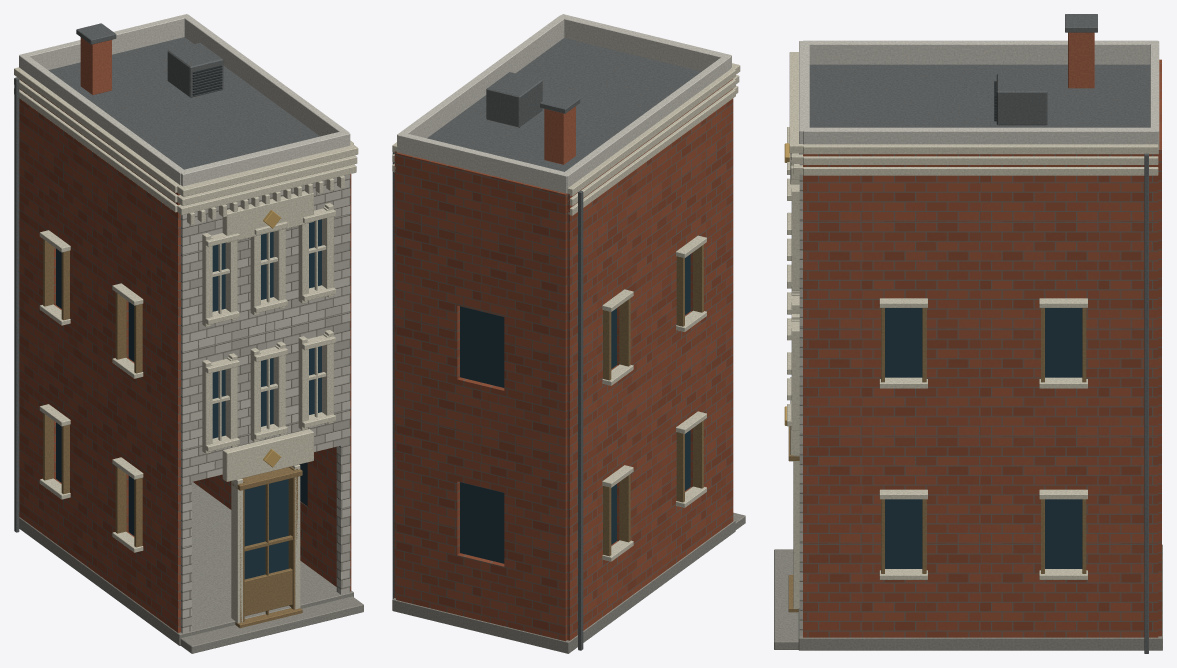
Rendered from OFFC19_lod1.glb.
The picture shows the model from 3 angles, left to right: view 1: azimuth 30°, elevation 25°; view 2: azimuth 150°, elevation 25°; view 3: azimuth 270°, elevation 25°; orthographic projection. The views are drawn at different scales.
Parts seen in each view (by area): view 1: OFFC19_LOD1; view 2: OFFC19_LOD1; view 3: OFFC19_LOD1.
Part boxes in pixels (x1,y1,x2,y2): OFFC19_LOD1: (14,14,363,653); OFFC19_LOD1: (392,14,745,653); OFFC19_LOD1: (774,14,1162,653).
Size of the model in its own units: 4.11 by 10.45 by 6.57.
12 materials, 9 textured.
